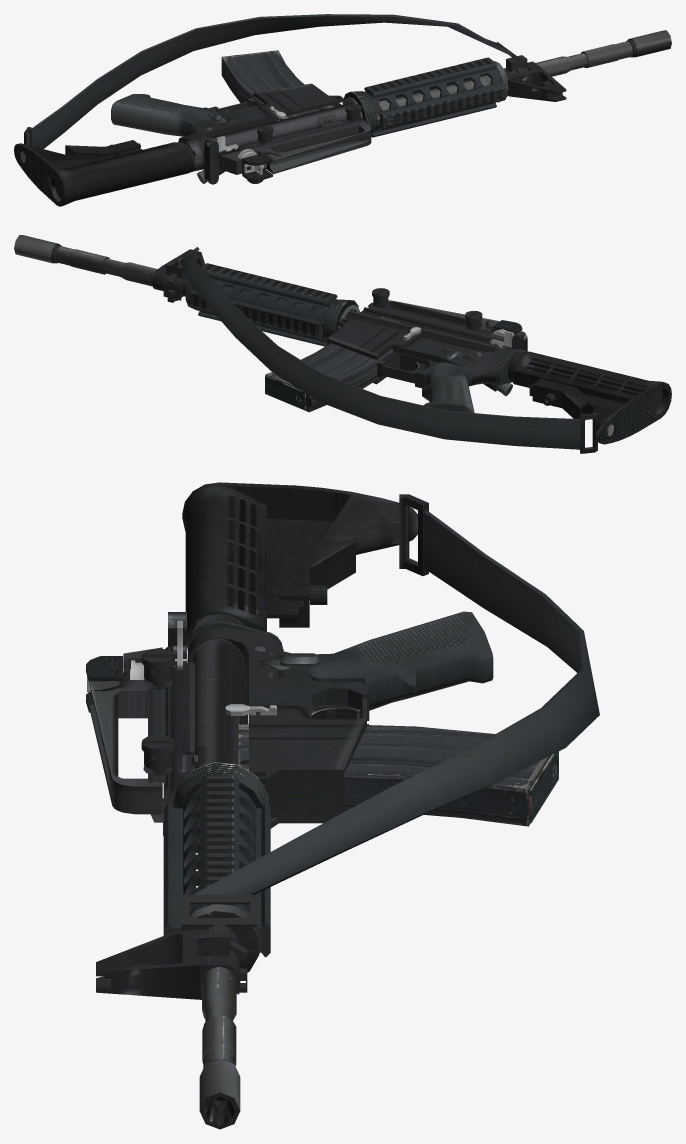
The model's file is M4_noHierarchy.dae.
3 views of the same model, one above another, from view 1: azimuth 30°, elevation 25°; view 2: azimuth 150°, elevation 25°; view 3: azimuth 270°, elevation 25° (orthographic). The views are drawn at different scales.
Parts seen in each view (by area): view 1: Strap, Buttstock, Upper_Handguard, Barrel_Assembly, Lower_Receiver, Gun_Carrying_Handle, Pistol_Grip, Tube, Upper_Receiver, Compensator, Buttstock_Release_Lever, Charging_Handle (+3 smaller); view 2: Strap, Buttstock, Lower_Receiver, Lower_Handguard, Upper_Handguard, Tube, Barrel_Assembly, Upper_Receiver, Pistol_Grip, Buttstock_Release_Lever, Gun_Carrying_Handle, Compensator (+6 smaller); view 3: Strap, Buttstock, Lower_Receiver, Barrel_Assembly, Tube, Pistol_Grip, Upper_Receiver, Upper_Handguard, Gun_Carrying_Handle, Buttstock_Release_Lever, Lower_Handguard, Compensator (+9 smaller).
Part boxes in pixels (x1,y1,x2,y2): Strap: (31, 14, 512, 148); Buttstock: (14, 142, 193, 206); Upper_Handguard: (364, 57, 505, 137); Barrel_Assembly: (377, 41, 632, 121); Lower_Receiver: (184, 83, 344, 169); Gun_Carrying_Handle: (220, 122, 371, 174); Pistol_Grip: (111, 94, 210, 136); Tube: (221, 50, 333, 119); Upper_Receiver: (207, 102, 364, 175); Compensator: (628, 30, 671, 57); Buttstock_Release_Lever: (65, 140, 140, 155); Charging_Handle: (204, 137, 226, 184); Strap: (180, 249, 580, 449); Buttstock: (513, 351, 671, 444); Lower_Receiver: (327, 318, 513, 388); Lower_Handguard: (189, 278, 328, 339); Upper_Handguard: (198, 263, 337, 346); Tube: (265, 343, 393, 412); Barrel_Assembly: (55, 246, 323, 330); Upper_Receiver: (337, 307, 503, 391); Pistol_Grip: (422, 362, 474, 412); Buttstock_Release_Lever: (532, 378, 590, 420); Gun_Carrying_Handle: (369, 300, 515, 340); Compensator: (14, 235, 59, 263); Strap: (193, 510, 599, 894); Buttstock: (182, 482, 417, 647); Lower_Receiver: (187, 627, 369, 828); Barrel_Assembly: (96, 802, 260, 1067); Tube: (238, 724, 551, 826); Pistol_Grip: (310, 611, 493, 710); Upper_Receiver: (163, 638, 270, 807); Upper_Handguard: (163, 775, 239, 935); Gun_Carrying_Handle: (89, 647, 163, 822); Buttstock_Release_Lever: (279, 541, 355, 627); Lower_Handguard: (234, 788, 270, 957); Compensator: (199, 1058, 240, 1129).
Size of the model in its own units: 0.7566 by 0.095 by 0.2753.
Materials: 17 (16 with a texture image).
